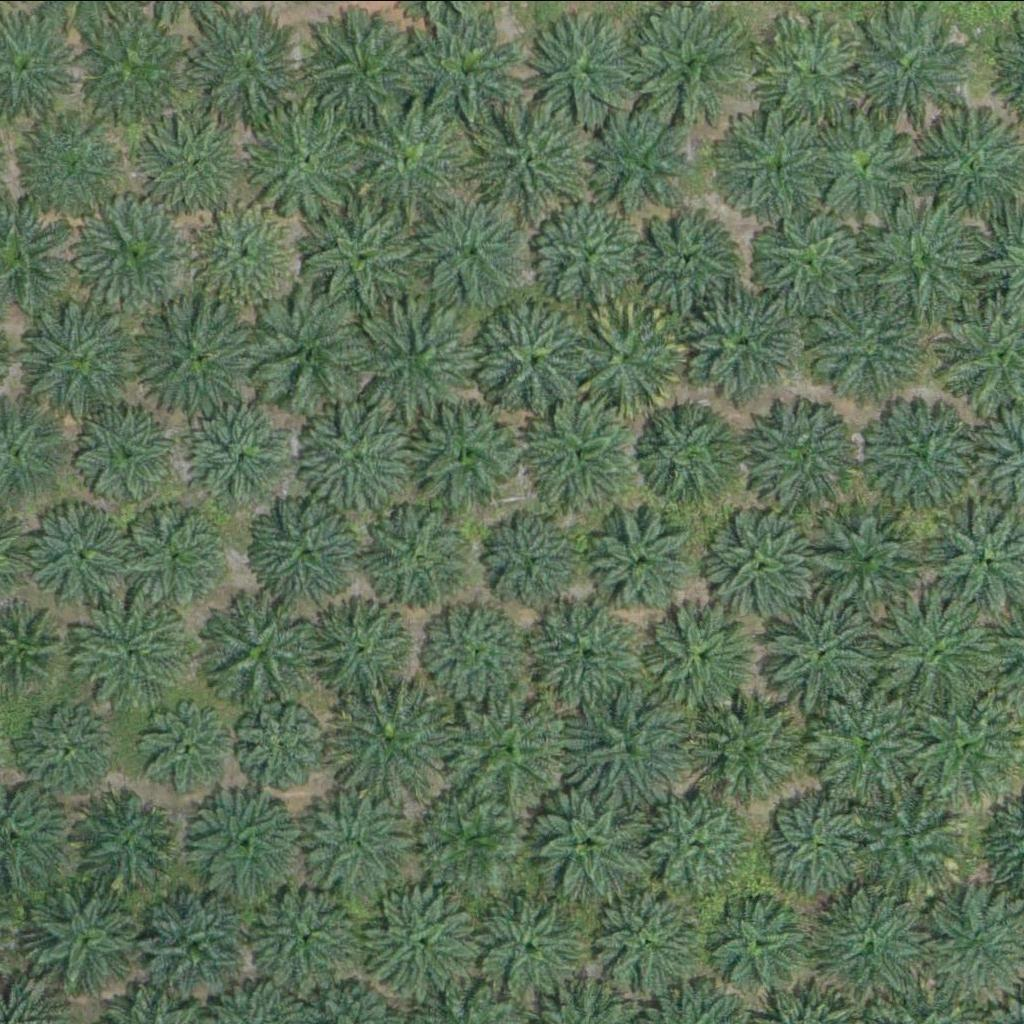Kelapa_Sawit: (19, 874, 145, 999), (304, 8, 430, 133), (525, 2, 651, 127), (621, 3, 747, 128), (473, 101, 599, 226), (345, 94, 471, 219), (248, 102, 374, 227), (305, 197, 431, 322), (477, 299, 603, 424), (356, 305, 482, 430), (252, 281, 378, 406), (135, 292, 261, 417), (404, 390, 530, 515), (574, 688, 700, 813), (328, 673, 454, 798), (537, 777, 663, 902), (713, 102, 839, 227), (749, 195, 875, 320), (751, 8, 877, 133), (815, 879, 941, 1004), (873, 593, 999, 718), (741, 390, 867, 515), (859, 387, 985, 512), (809, 287, 935, 412), (681, 282, 807, 407), (872, 198, 998, 323), (851, 4, 977, 129), (574, 292, 699, 417), (516, 390, 641, 515), (759, 592, 884, 717), (809, 491, 934, 616), (26, 304, 140, 417), (83, 192, 197, 305), (187, 196, 301, 309), (474, 888, 588, 1001), (597, 875, 711, 988), (76, 593, 189, 706), (591, 107, 704, 220), (417, 193, 530, 306), (531, 195, 644, 308), (206, 597, 319, 710), (414, 594, 527, 707), (371, 879, 484, 992), (643, 783, 756, 896), (807, 690, 920, 803), (762, 788, 875, 901), (860, 781, 973, 894), (407, 12, 521, 124), (18, 103, 131, 215), (192, 12, 305, 124), (135, 105, 248, 217), (184, 394, 297, 506), (306, 399, 419, 511), (252, 497, 365, 609), (535, 591, 648, 703), (452, 697, 565, 809), (194, 786, 307, 898), (306, 786, 419, 898), (686, 691, 799, 803), (648, 595, 761, 707), (34, 505, 135, 605), (84, 401, 185, 501), (632, 213, 733, 313), (632, 403, 733, 503), (592, 508, 693, 608), (485, 516, 586, 616), (368, 506, 469, 606), (127, 508, 228, 608), (313, 600, 414, 700), (237, 695, 338, 795), (137, 699, 238, 799), (81, 791, 182, 891), (419, 794, 520, 894), (150, 902, 251, 1002), (257, 875, 358, 975), (712, 893, 813, 993), (913, 695, 1014, 795), (715, 513, 816, 613), (821, 115, 921, 215), (23, 704, 112, 791)
